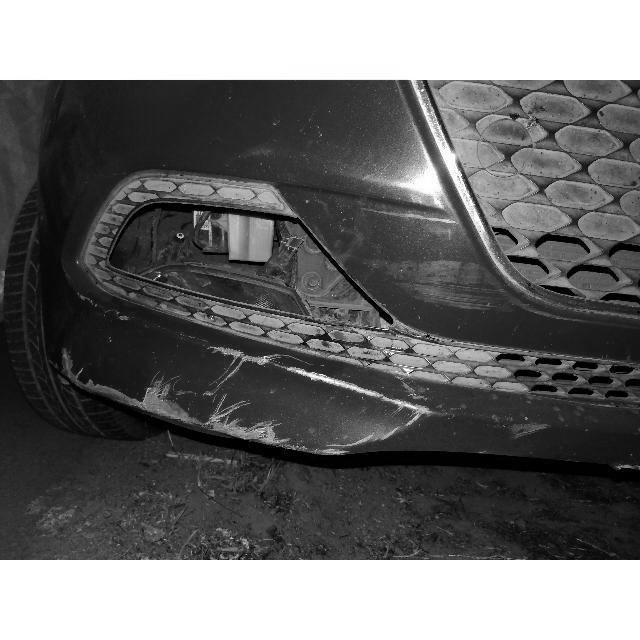front-bumper-dent: (1, 149, 546, 463)
